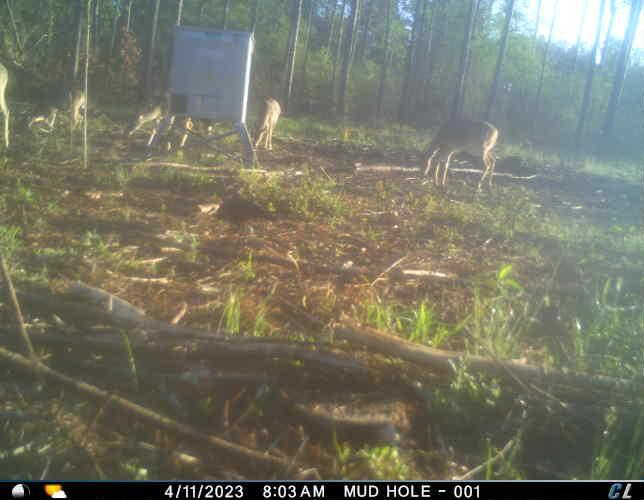Deer: (417, 115, 502, 190), (126, 91, 196, 150), (19, 88, 88, 135), (251, 92, 282, 153), (0, 60, 11, 146)
